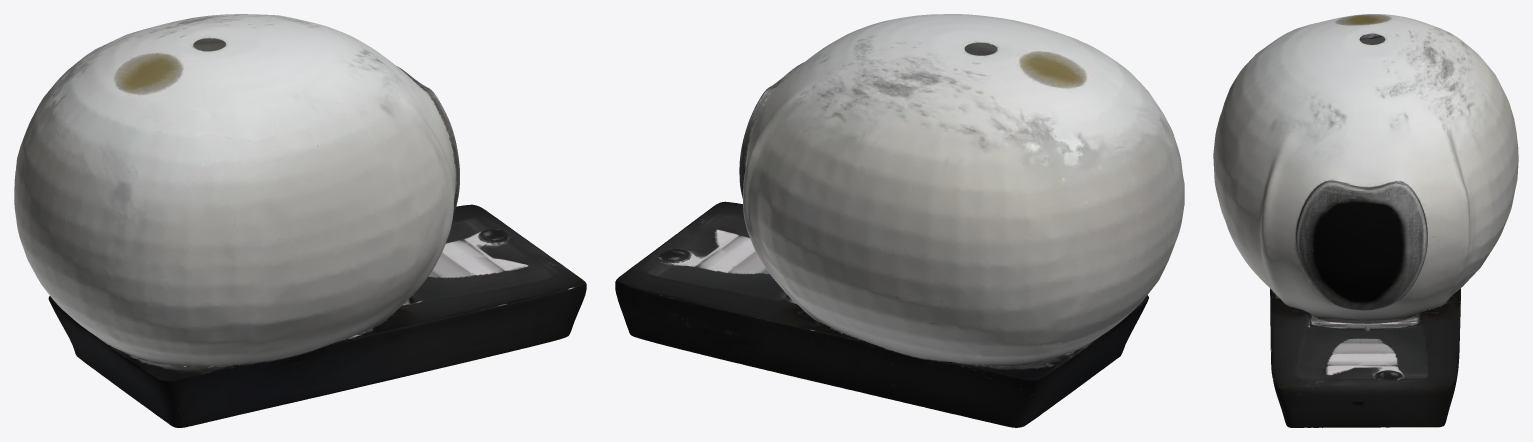
File: earth_weight.glb
3 views of the same model, side by side, from view 1: azimuth 30°, elevation 25°; view 2: azimuth 150°, elevation 25°; view 3: azimuth 270°, elevation 25° (orthographic). The views are drawn at different scales.
Parts seen in each view (by area): view 1: geometry_0; view 2: geometry_0; view 3: geometry_0.
Boxes of the visible parts, x1,y1,x2,y2 form: geometry_0: (14,14,586,427); geometry_0: (615,14,1184,427); geometry_0: (1213,14,1518,427).
Bounding box in the file's own units: 0.9983 × 0.6351 × 0.6578.
Materials: 1 (1 with a texture image).
